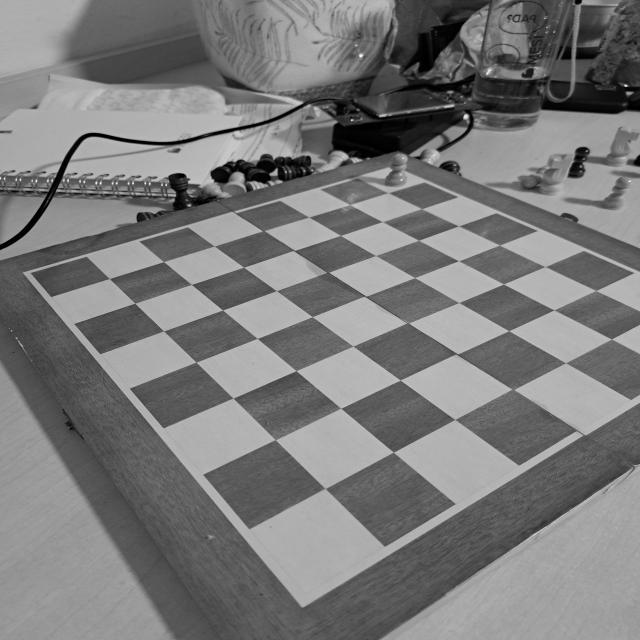chess-table-corners: (272, 576, 336, 617), (15, 263, 50, 284)
